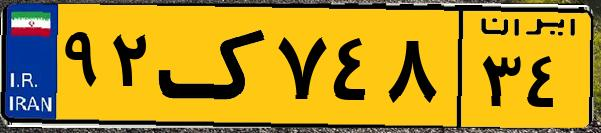2: (110, 28, 158, 98)
3: (475, 38, 525, 113)
4: (330, 28, 385, 110), (525, 38, 570, 115)
7: (270, 28, 330, 110)
8: (385, 28, 445, 110)
9: (57, 26, 110, 100)
ک: (158, 12, 270, 120)
